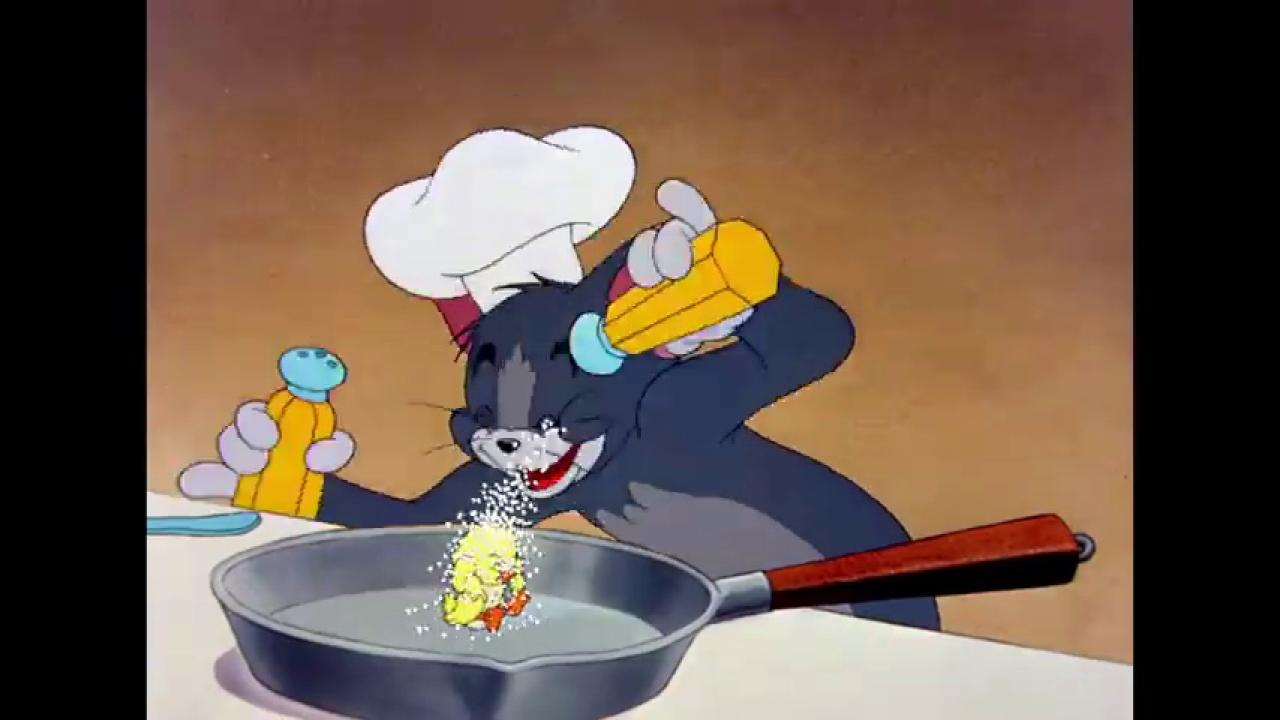Tom: (175, 176, 941, 633)
